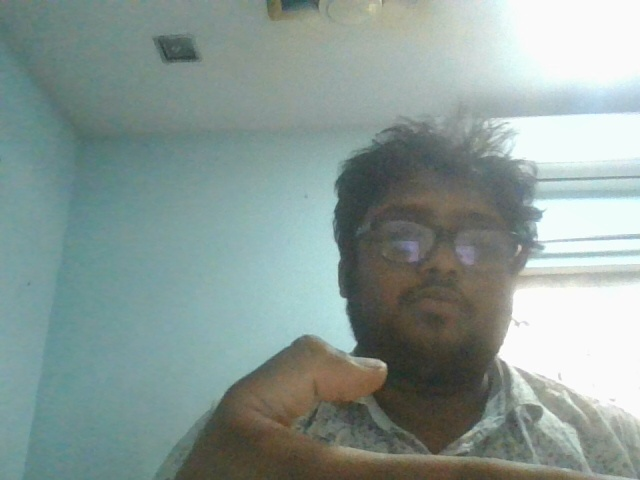LEFT: (207, 342, 636, 480)
